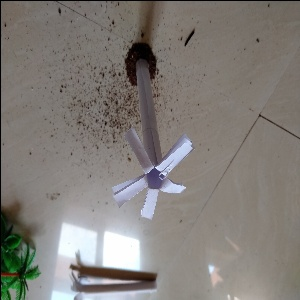weed: (115, 55, 191, 214)
